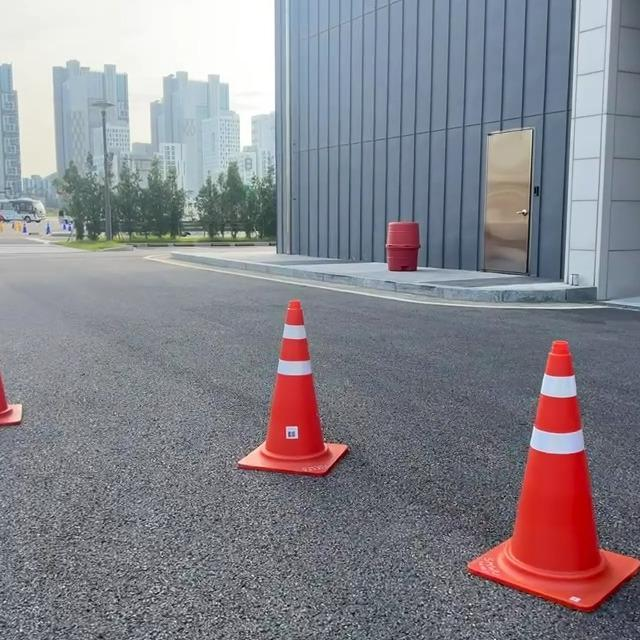fallen_object: (433, 320, 640, 640), (232, 259, 396, 561), (0, 325, 90, 505)
